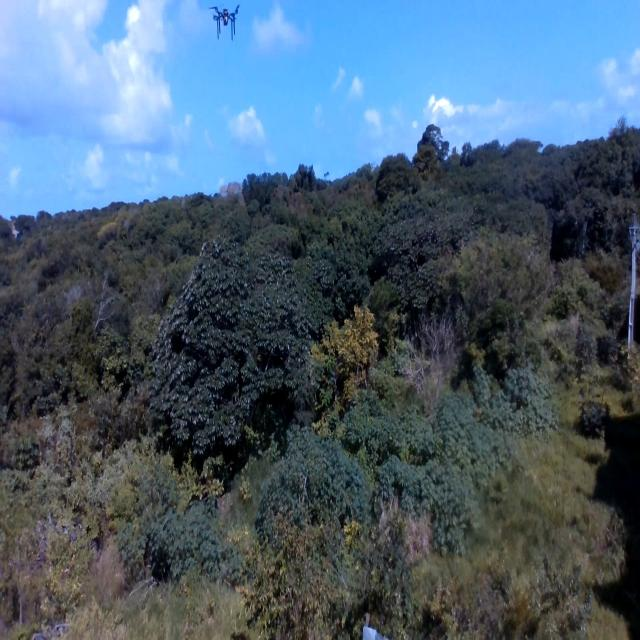-uav-: (204, 0, 246, 46)
